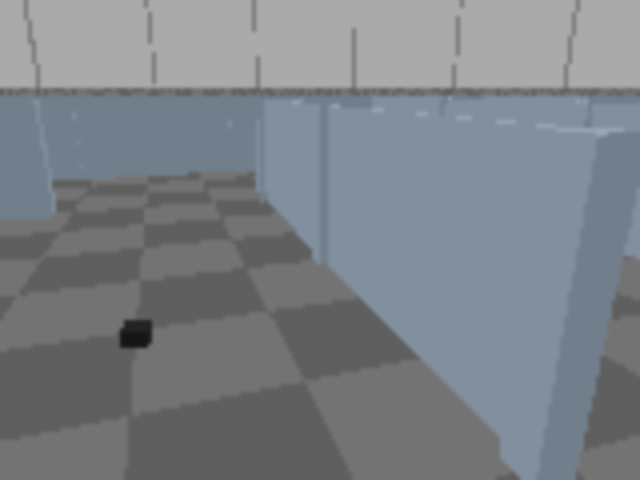puck: (120, 318, 154, 349)
